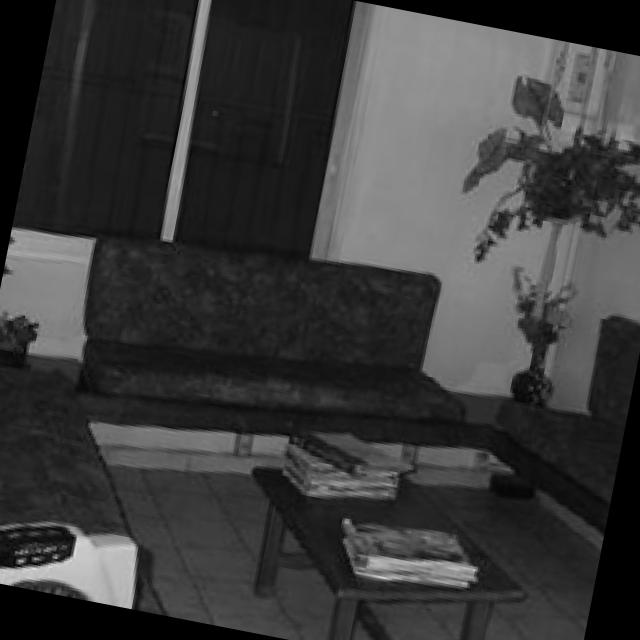2001: (17, 0, 361, 257)
floor -X: (0, 421, 607, 640)
flowers in pot: (514, 260, 582, 339)
magazines: (342, 514, 484, 589), (288, 428, 418, 495)
plants: (469, 68, 640, 255)
seats crop: (82, 234, 469, 420), (0, 364, 162, 608), (493, 307, 640, 501)
table -X: (255, 465, 530, 640)
vase -X: (513, 336, 556, 401)
wall clock: (524, 50, 640, 520)
